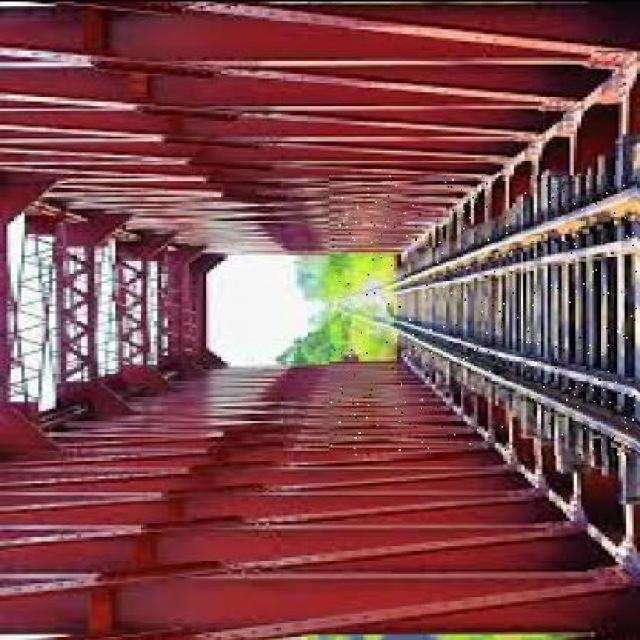rail: (331, 176, 639, 455)
